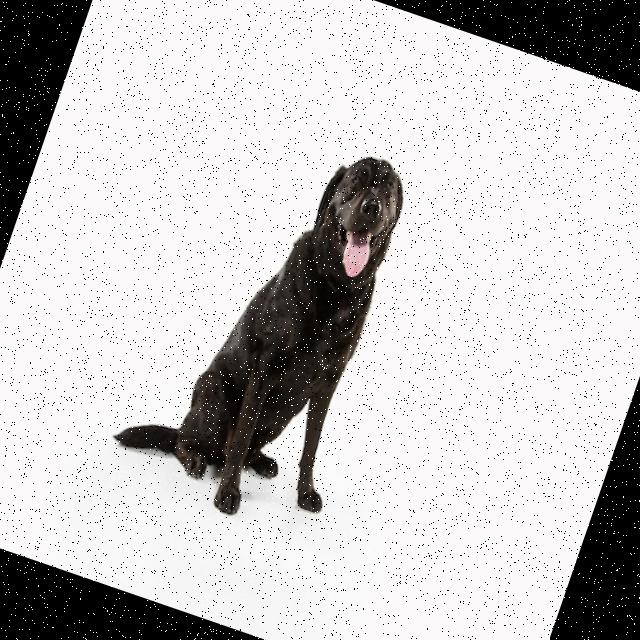Dog: (101, 106, 434, 544)
